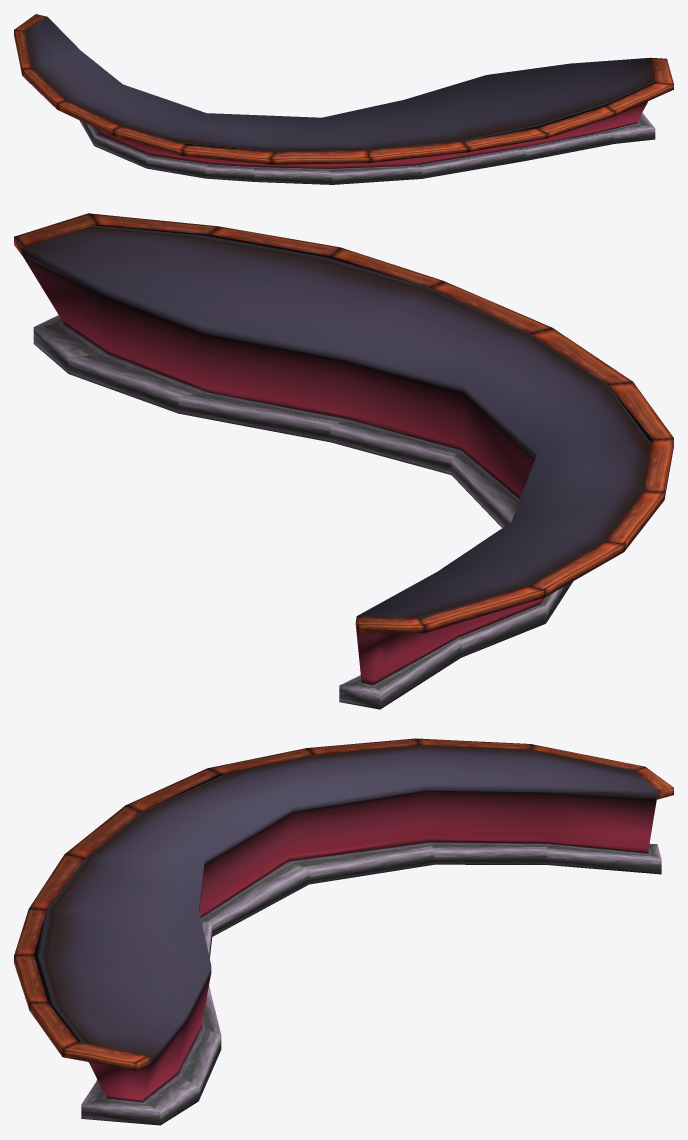
Rendered from disco_bar.DAE.
The picture shows the model from 3 angles, top to bottom: view 1: azimuth 30°, elevation 25°; view 2: azimuth 150°, elevation 25°; view 3: azimuth 270°, elevation 25°; orthographic projection. The views are drawn at different scales.
Parts seen in each view (by area): view 1: Box01; view 2: Box01; view 3: Box01.
Part boxes in pixels (x1,y1,x2,y2): Box01: [14, 14, 673, 184]; Box01: [14, 213, 673, 709]; Box01: [14, 738, 673, 1125].
Size of the model in its own units: 9.66 by 1.06 by 8.29.
